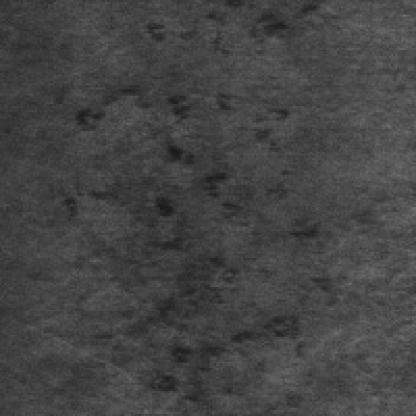rolled-in_scale: (119, 18, 266, 364)
